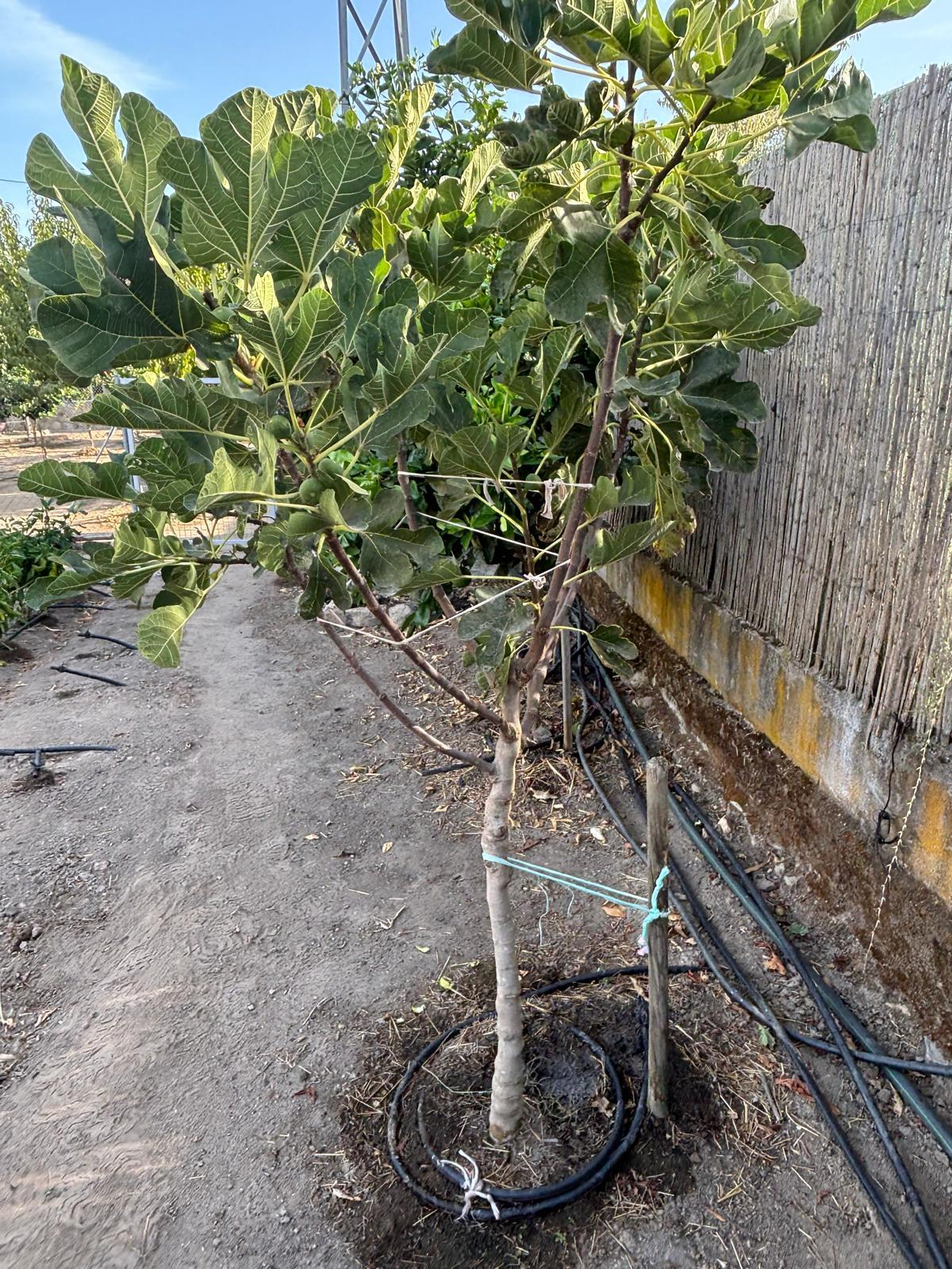higera: (95, 104, 732, 1187)
